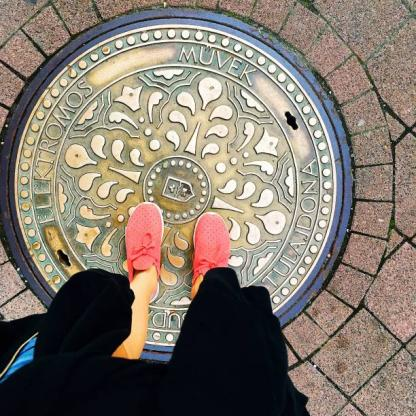manholes: (0, 0, 369, 352)
